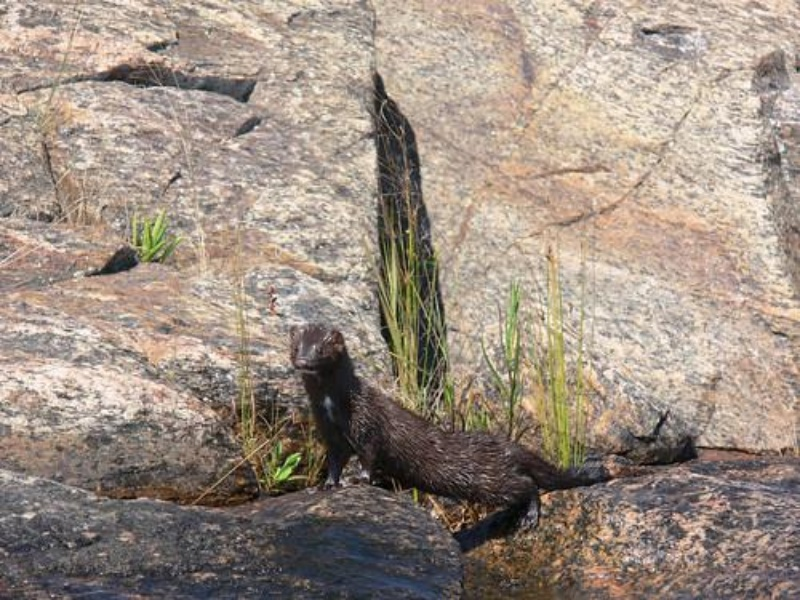minkish: (286, 321, 611, 530)
